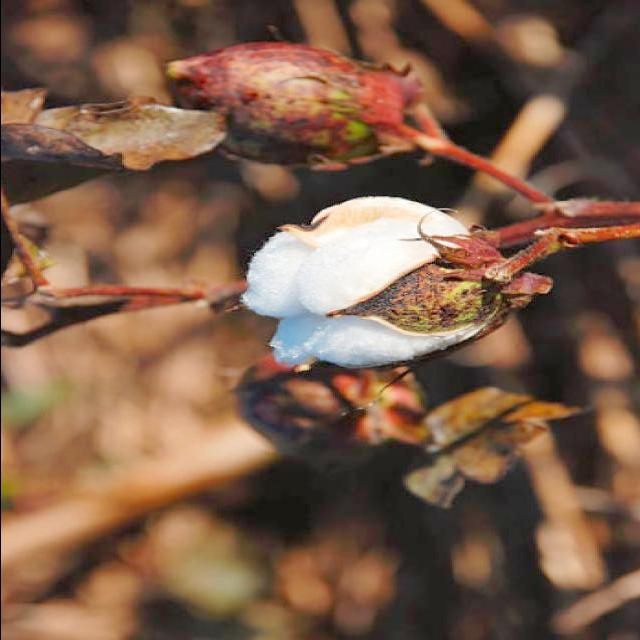Early Boll: (151, 39, 433, 173)
Matured Cotton Boll: (234, 199, 526, 373)
